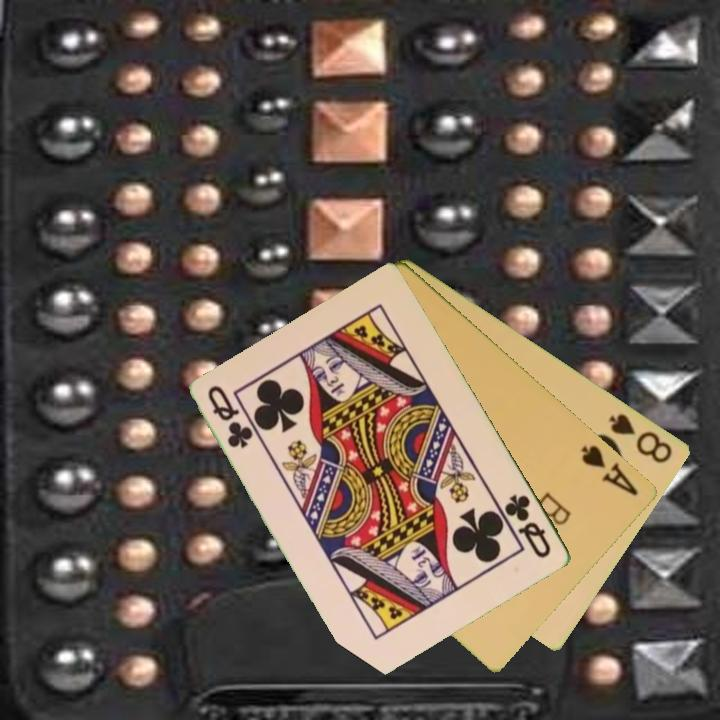8s: (605, 409, 676, 467)
As: (578, 441, 642, 499)
Qc: (501, 491, 555, 562), (204, 381, 256, 452)
